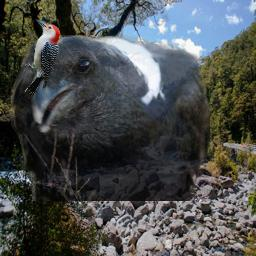Crow: (11, 34, 210, 201)
Woodpecker: (23, 19, 60, 99)
